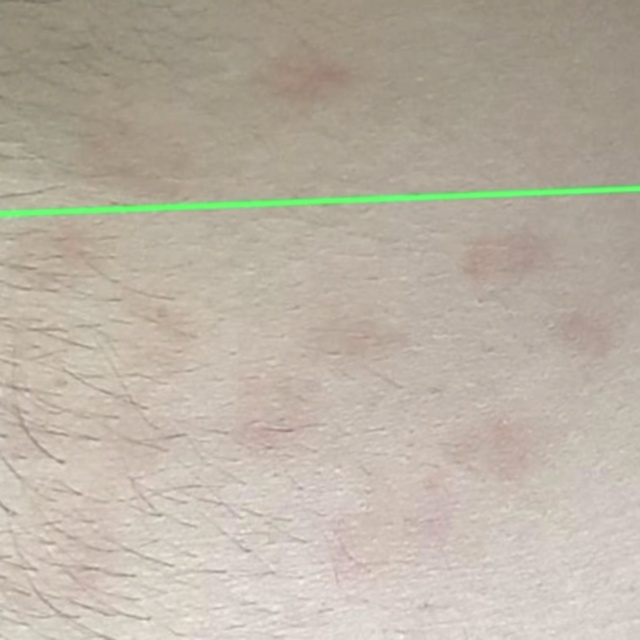Tinea Corporis: (0, 188, 639, 639)
